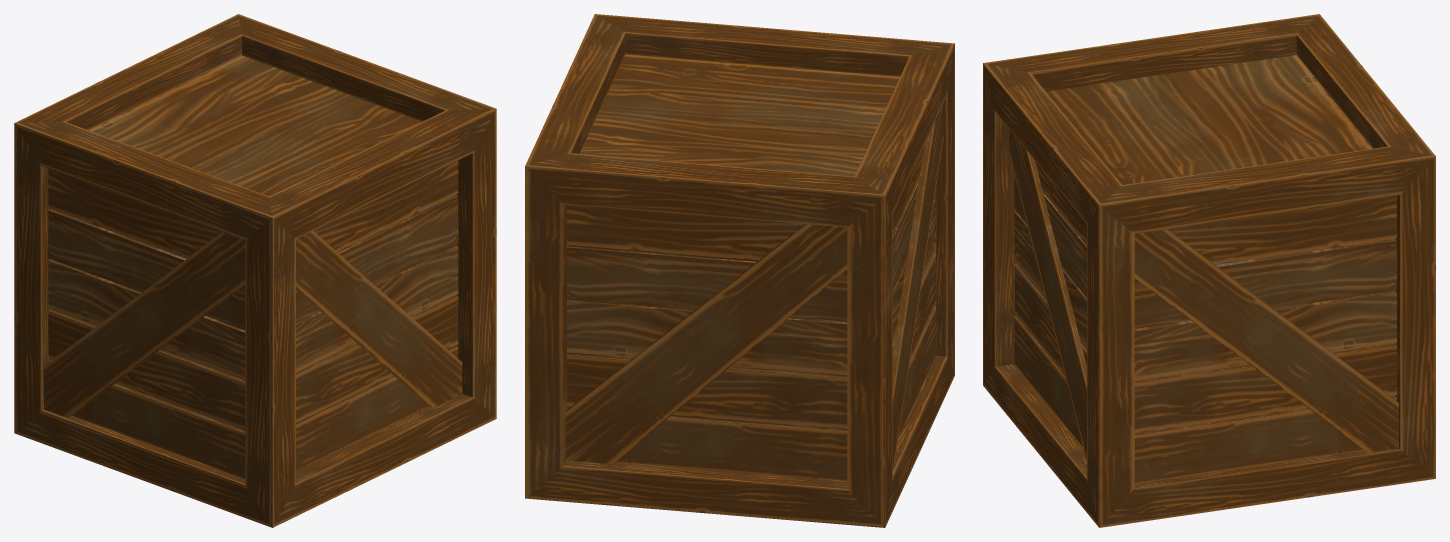
3 renders of one model, left to right at view 1: azimuth 30°, elevation 25°; view 2: azimuth 150°, elevation 25°; view 3: azimuth 270°, elevation 25°, orthographic. The views are drawn at different scales.
Parts seen in each view (by area): view 1: Cube.1021; view 2: Cube.1021; view 3: Cube.1021.
Boxes of the visible parts, x1=… form: Cube.1021: x1=14, y1=14, x2=496, y2=527; Cube.1021: x1=525, y1=14, x2=954, y2=527; Cube.1021: x1=983, y1=14, x2=1435, y2=527.
Bounding box in the file's own units: 131 × 103 × 131.
1 material, 1 textured.
